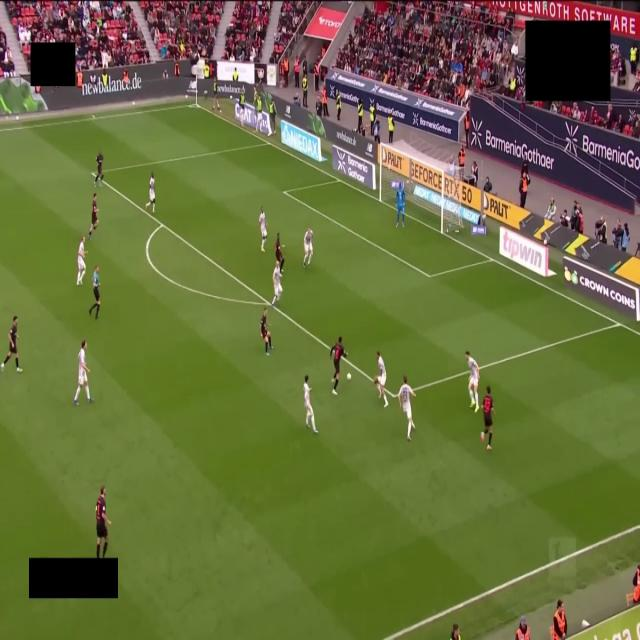ball: (347, 373, 351, 380)
player: (0, 316, 22, 373), (74, 341, 92, 405), (96, 485, 111, 558), (398, 376, 415, 440), (330, 336, 347, 395), (481, 386, 494, 450), (466, 352, 479, 412), (374, 352, 388, 407), (304, 376, 317, 433), (261, 308, 272, 354), (88, 193, 98, 239), (272, 261, 282, 306), (77, 236, 86, 285), (145, 173, 155, 214), (396, 183, 405, 227), (303, 229, 313, 267), (275, 233, 284, 273), (259, 208, 267, 252), (95, 152, 103, 185)
referee: (89, 265, 100, 319)
